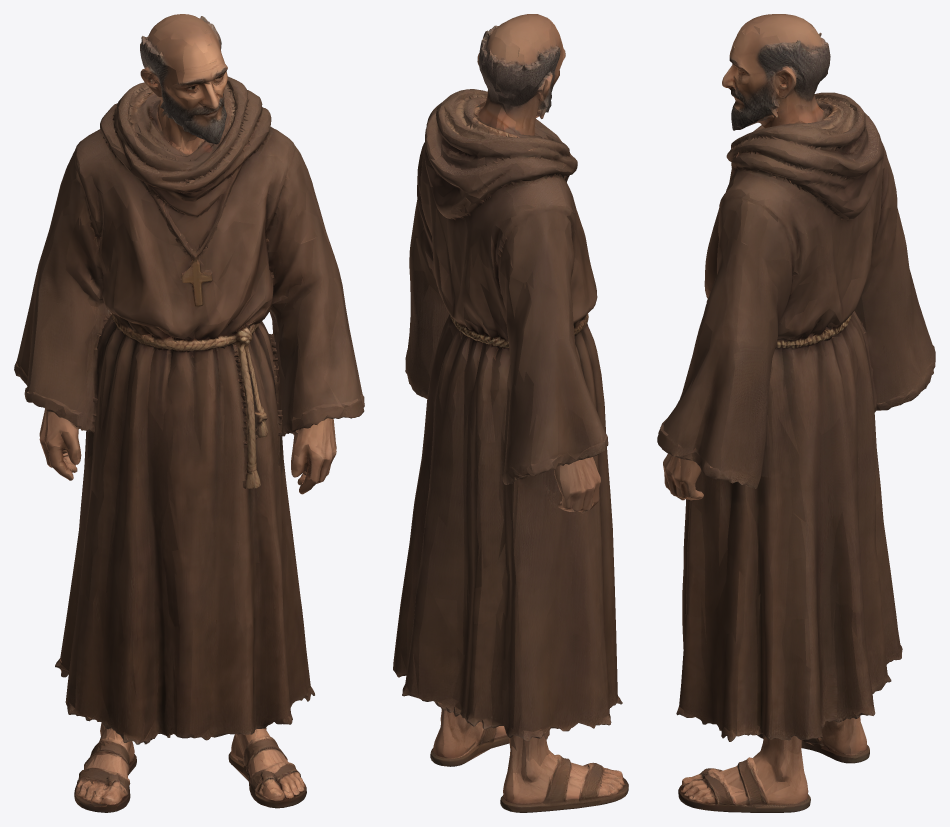
The model's file is npc-monk.glb.
The picture shows the model from 3 angles, left to right: view 1: azimuth 30°, elevation 25°; view 2: azimuth 150°, elevation 25°; view 3: azimuth 270°, elevation 25°; orthographic projection.
Size of the model in its own units: 0.695 by 1.9 by 0.6357.
1 material, 1 textured.
